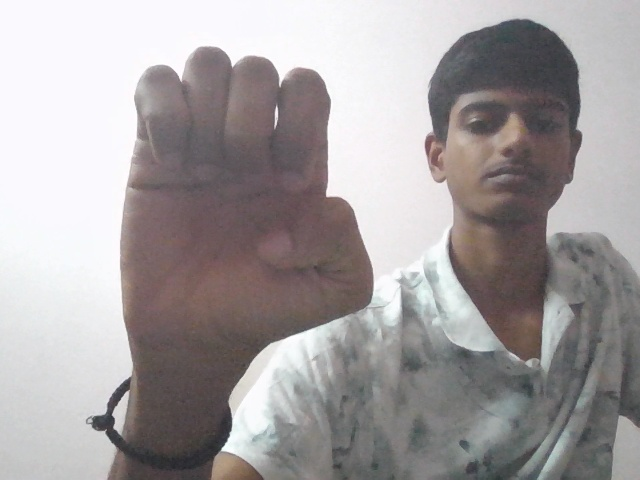yes: (128, 38, 380, 397)
